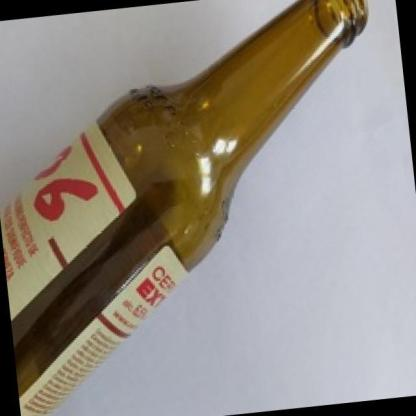Can: (0, 0, 296, 205)
